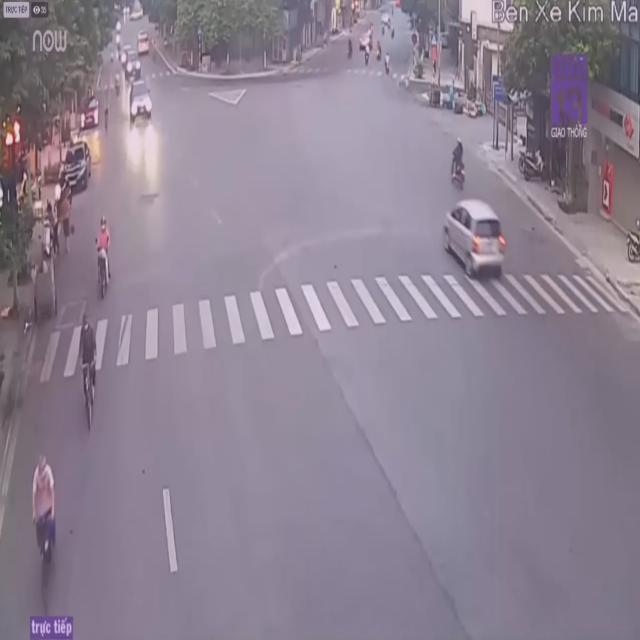car: (442, 200, 511, 286)
motorbike: (92, 216, 114, 301), (448, 140, 466, 188)
